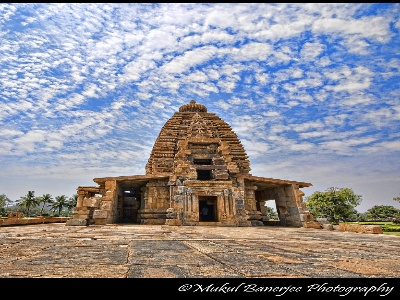amalaka: (170, 96, 214, 120)
gopuram: (142, 106, 258, 176)
